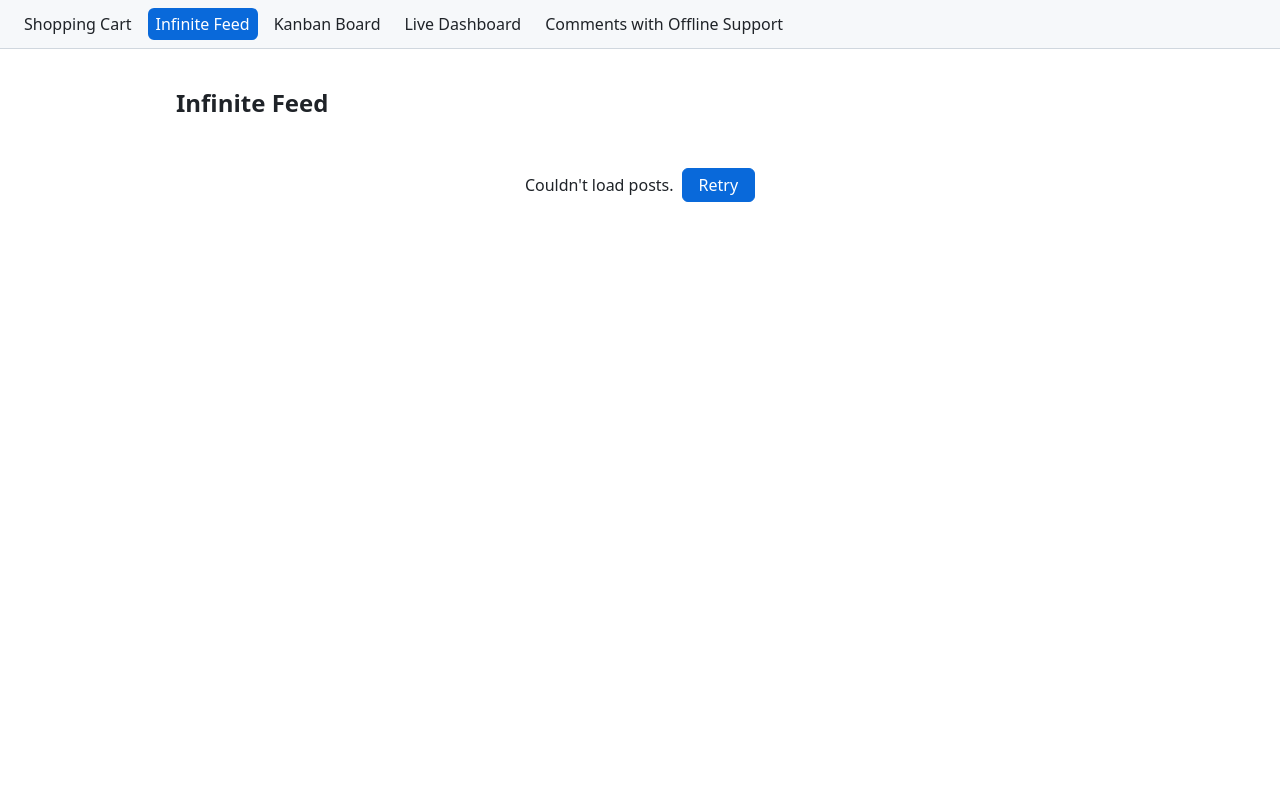
Test: FeedPage › retries the first page when the very first request fails
Click the button "Retry": (718, 185) [682, 168, 755, 202]
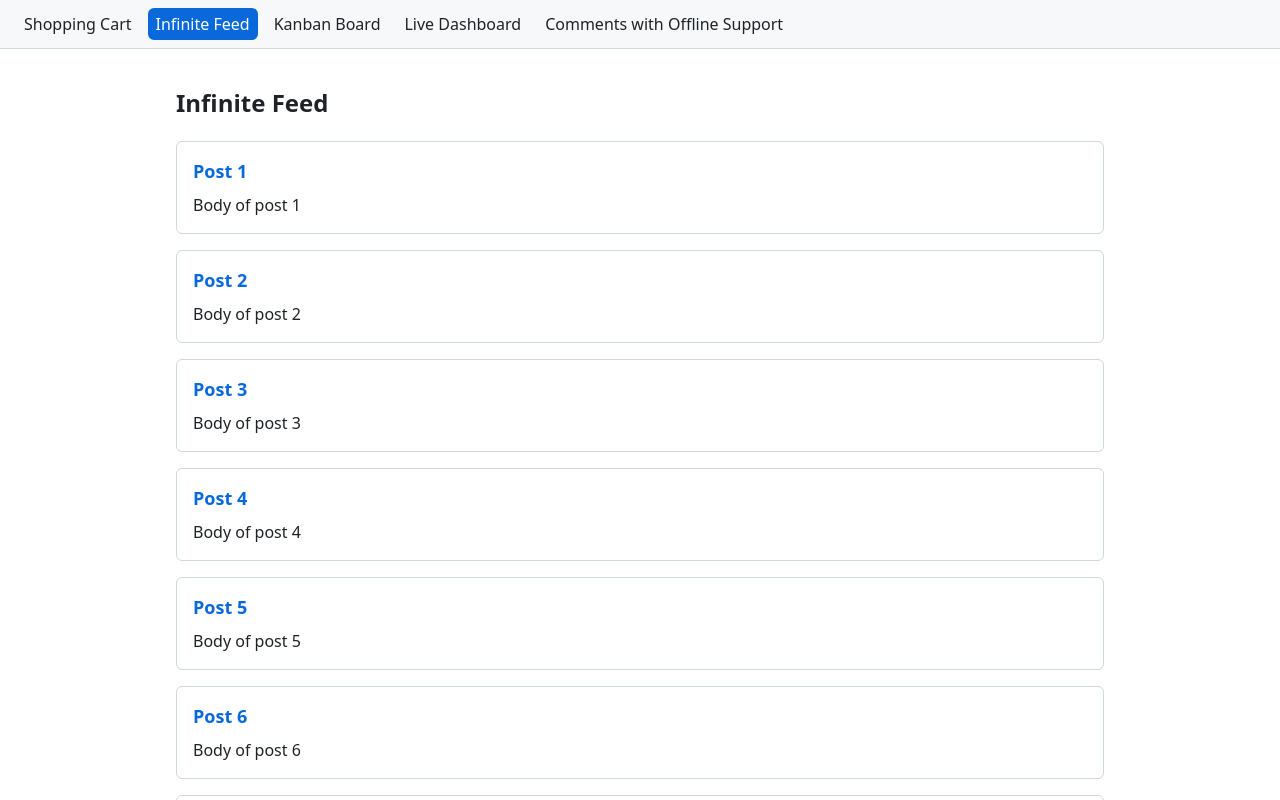
Check: the link "Post 1" is shown, box [193, 159, 247, 183]
